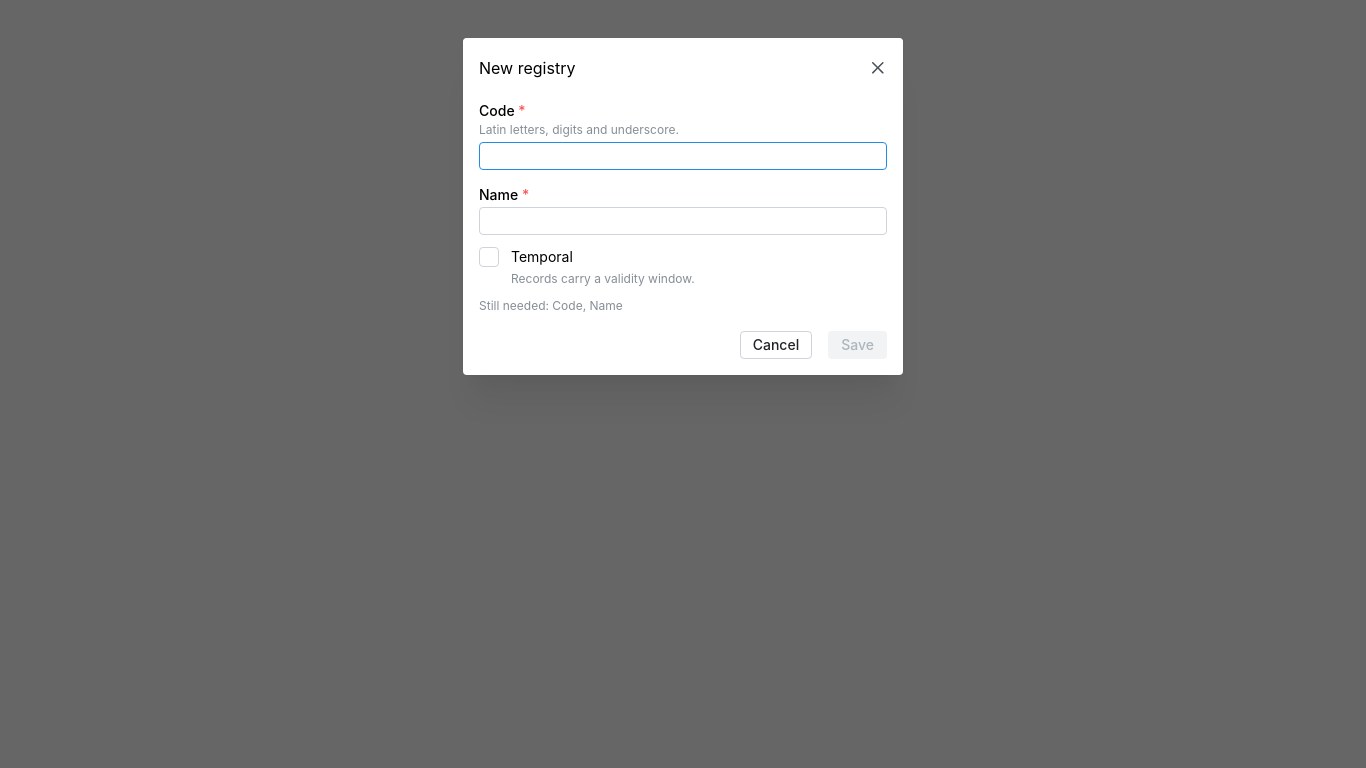
CreateRegistryModal: той самий контракт, що й «New project» (U-18) › обов'язкові поля позначені, бракуюче названо, і перелік іде в ногу з кнопкою
Expected: the 2nd text "*" is shown, [518, 187, 529, 204]
Expected: the text "Still needed: Code, Name" is shown, [479, 299, 623, 314]
In the field labelled "Code *": x=683, y=157 [479, 143, 887, 171], type "FUEL"
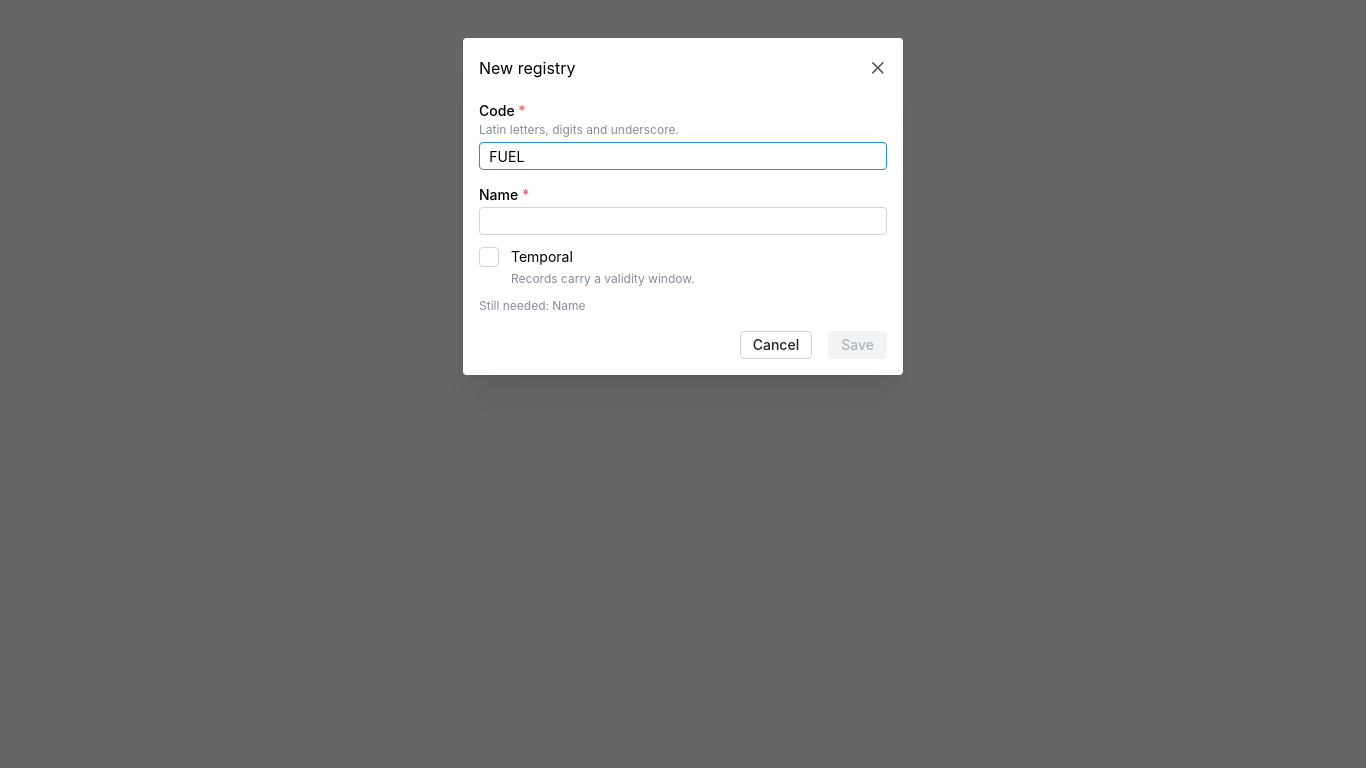
Expected: the button "Save" is disabled, [828, 332, 887, 360]
Expected: the text "Still needed: Name" is shown, [479, 299, 586, 314]
In the field labelled "Name *": x=683, y=221 [479, 207, 887, 235], type "Fuel types"
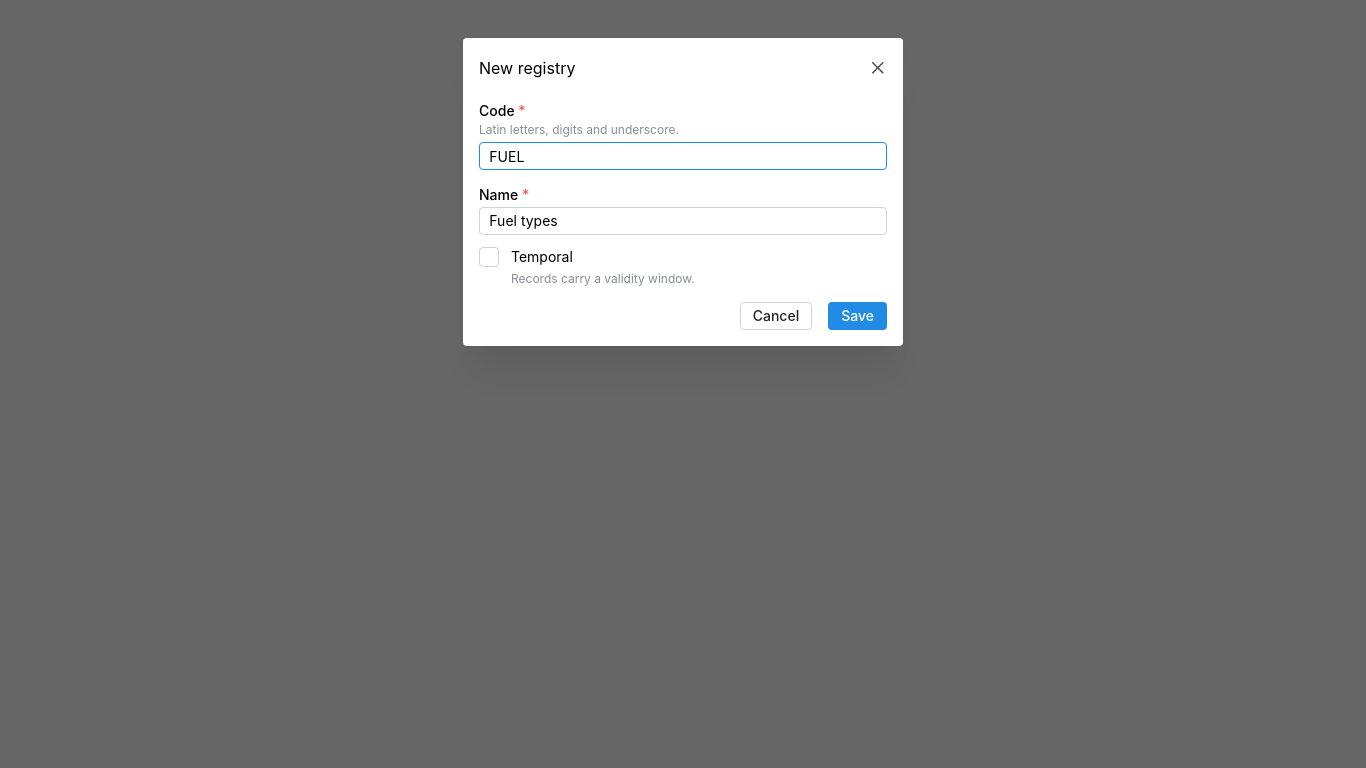
Expected: the button "Save" is enabled, [828, 303, 887, 331]
